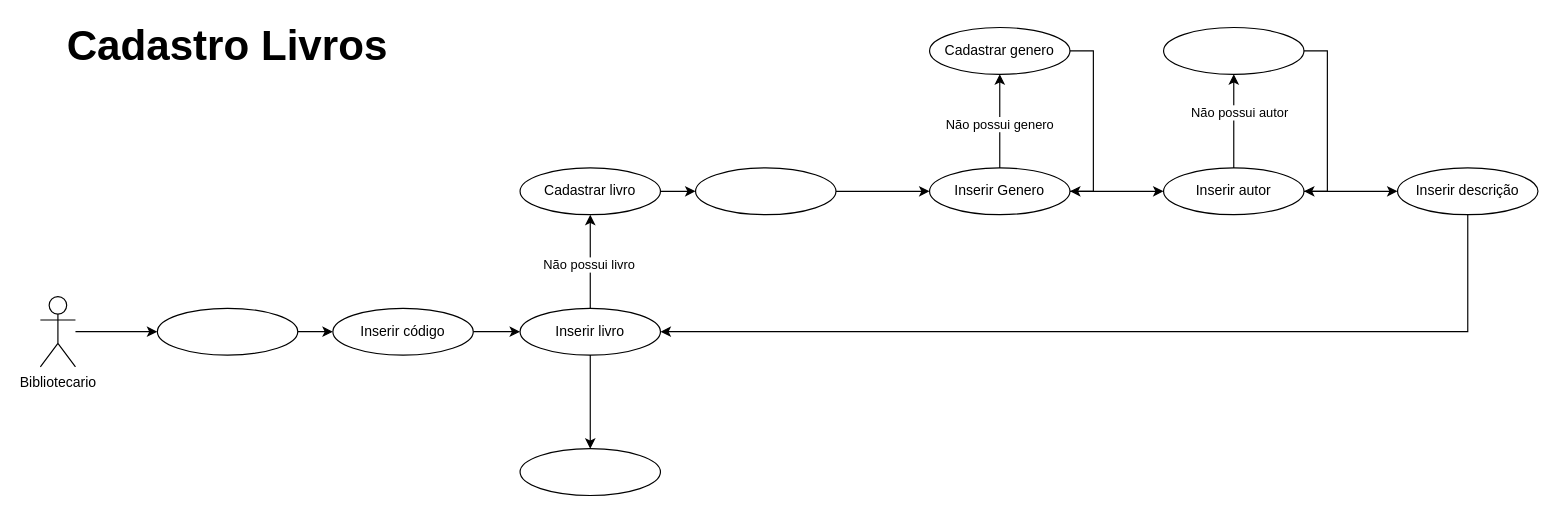
The diagram is 1558 pixels wide and 516 high, and some of its shapes have lost their labels. Each missing label, with the centre of its shape:
"Cadastrar autor" belongs at pixel 1233 50.
"Cadastrar exemplar" belongs at pixel 227 331.
"Inserir status" belongs at pixel 589 471.
"Inserir titulo" belongs at pixel 765 191.
